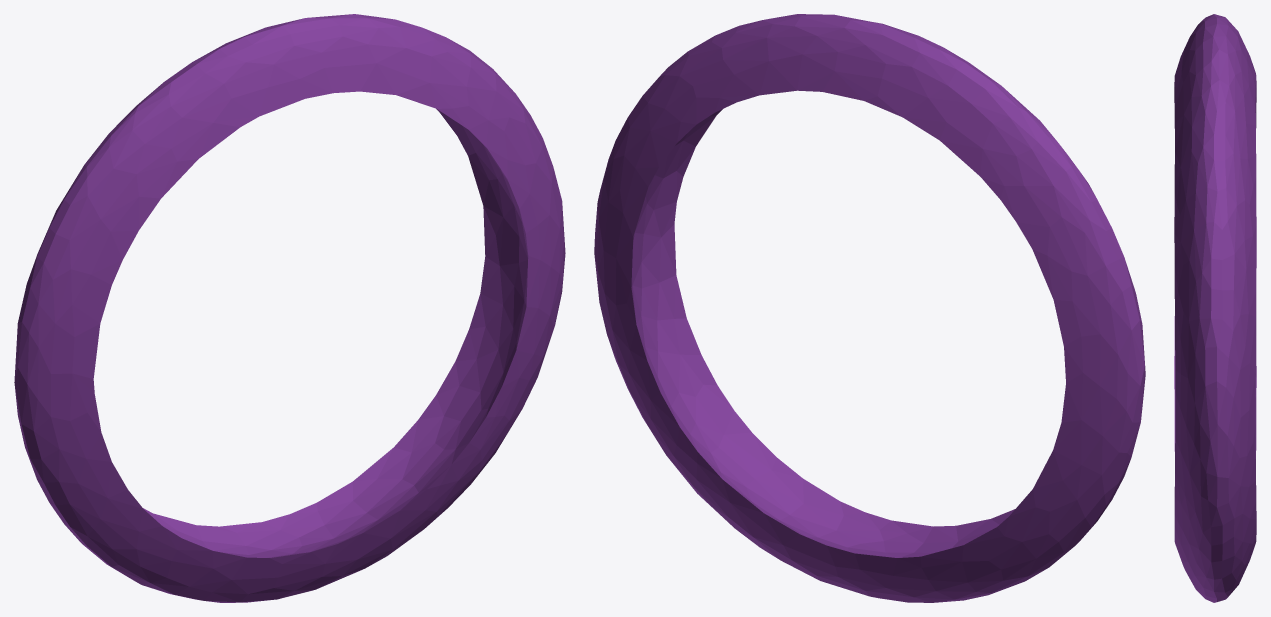
The model's file is Net Top.fbx.
3 renders of one model, left to right at view 1: azimuth 30°, elevation 25°; view 2: azimuth 150°, elevation 25°; view 3: azimuth 270°, elevation 25°, orthographic. The views are drawn at different scales.
Visible parts, largest first — view 1: xTop; view 2: xTop; view 3: xTop.
Part boxes in pixels (box(x1,y1,x2,y2)): xTop: box(14, 14, 565, 602); xTop: box(594, 14, 1145, 602); xTop: box(1174, 14, 1256, 602).
Size of the model in its own units: 126 by 908 by 908.
